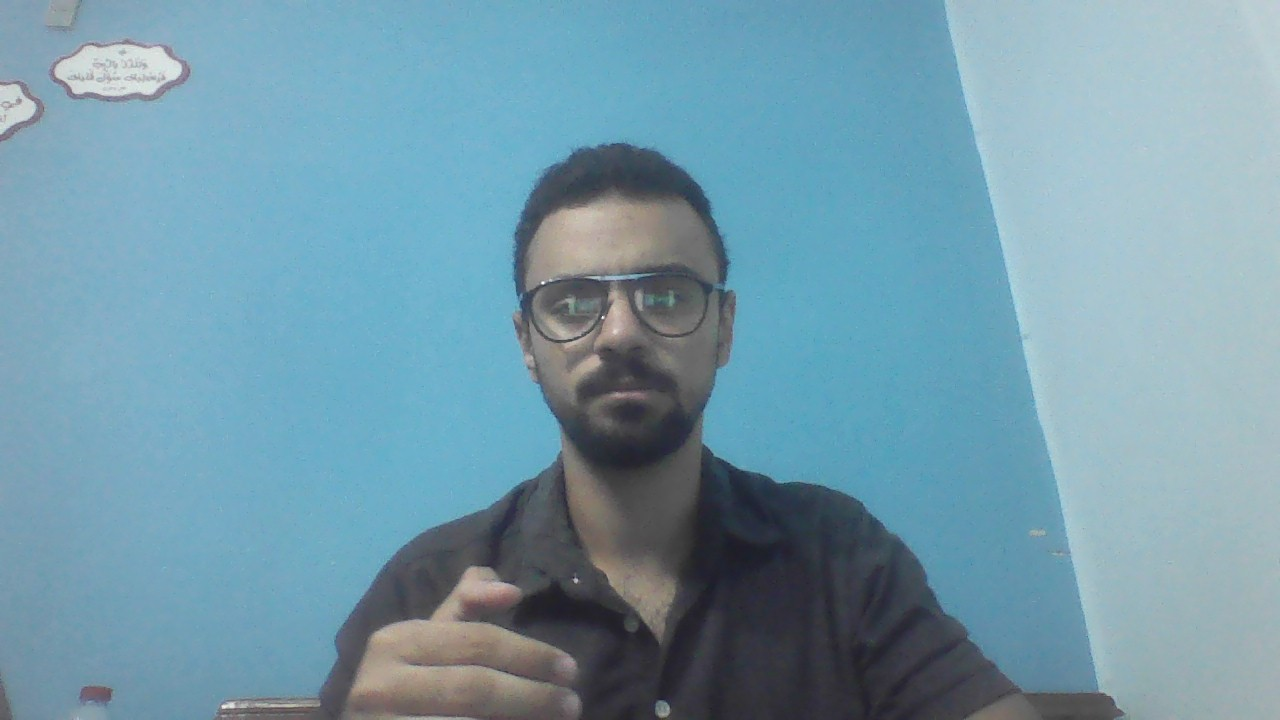drink: (346, 567, 581, 720)
